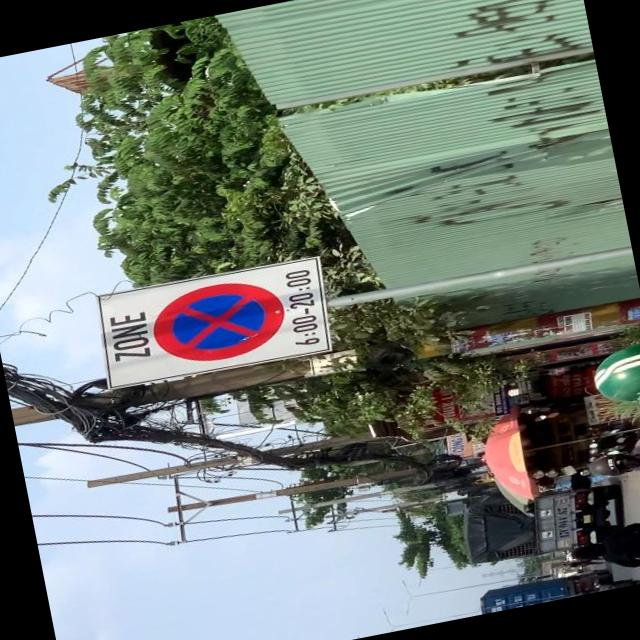P-130: (146, 273, 288, 371)
